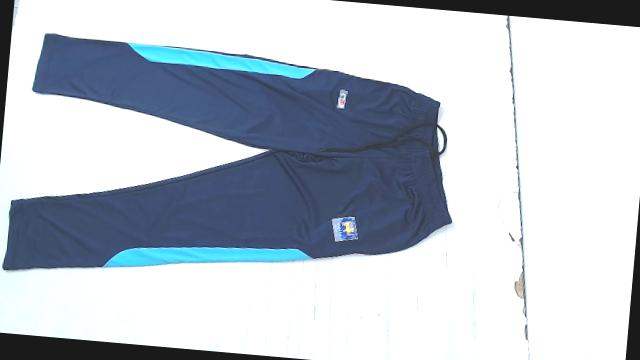new-garment: (3, 34, 451, 269)
